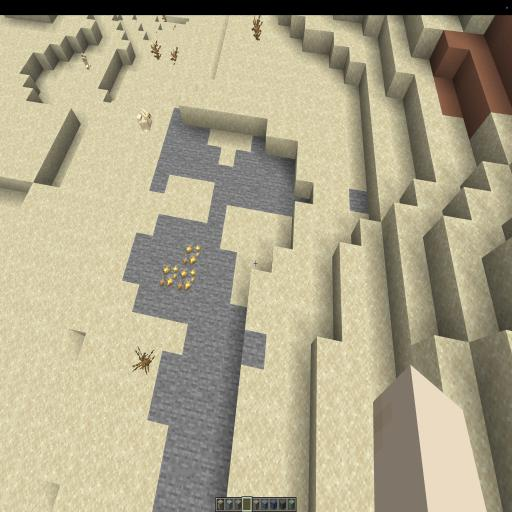gold ore: (157, 238, 203, 299)
